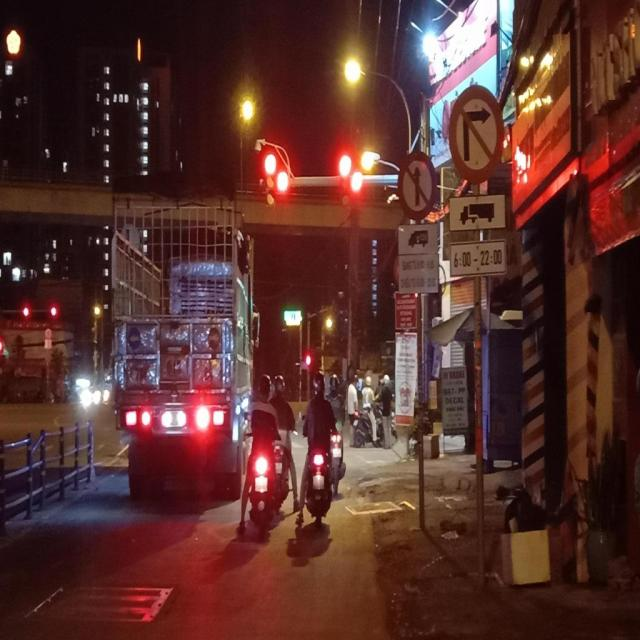cam_re_phai: (448, 85, 505, 185)
khac: (397, 152, 437, 222), (449, 240, 506, 277), (450, 195, 506, 230), (398, 254, 438, 292), (398, 223, 437, 254)
